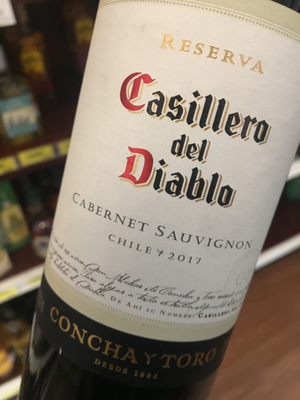casillero del diablo cabernet sauvignon: (31, 15, 300, 391)
